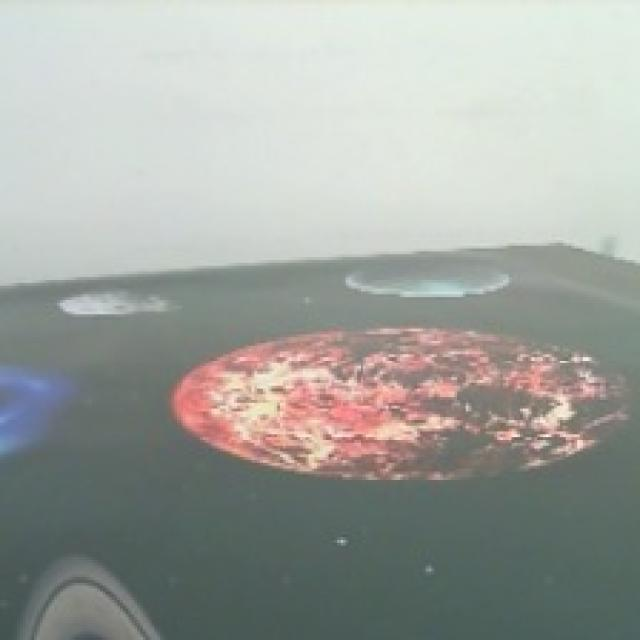Asteroid: (60, 290, 176, 317)
Black Hole: (0, 355, 63, 468)
Earth: (346, 259, 510, 297)
Saturn: (12, 559, 167, 640)
Sun: (173, 324, 635, 485)
